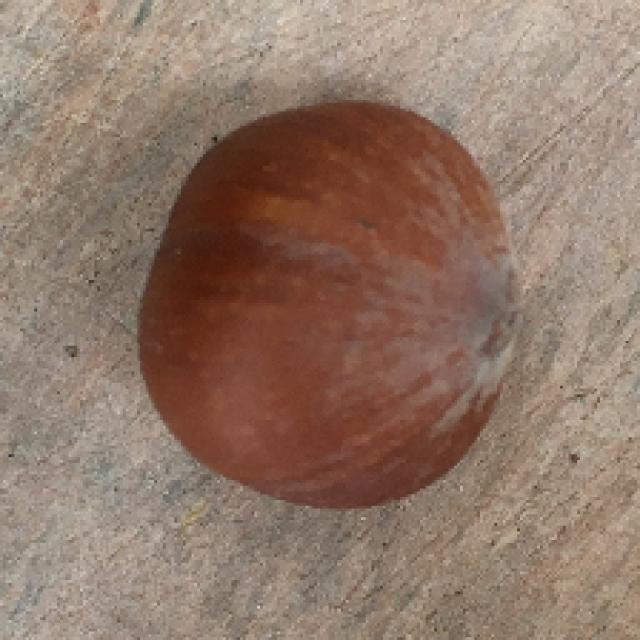QualityHazelnut: (138, 98, 525, 518)
